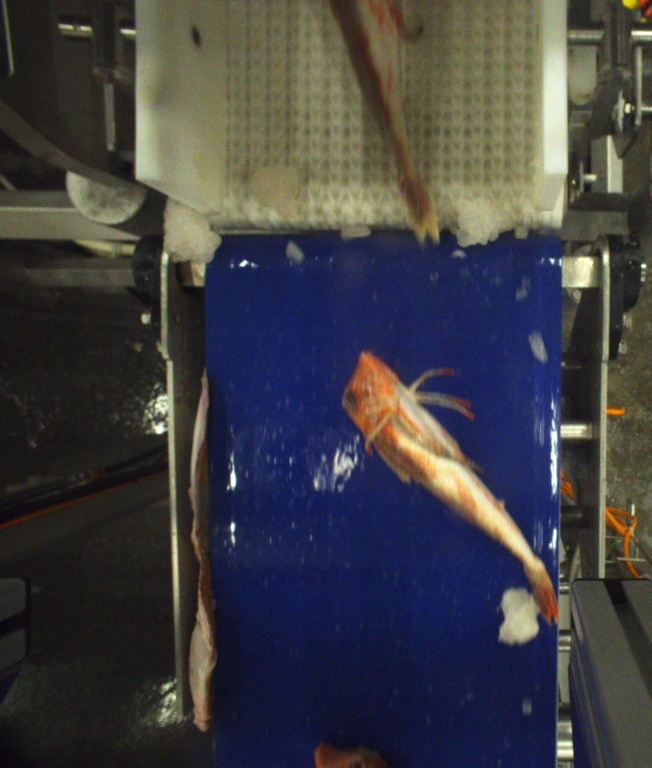GUU: (336, 346, 561, 627)
